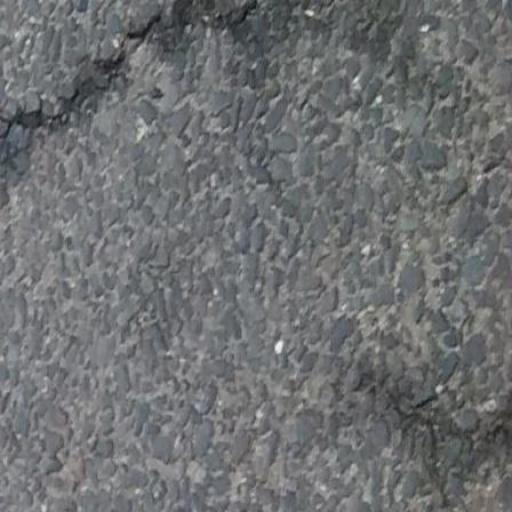spalling: (9, 15, 169, 131)
